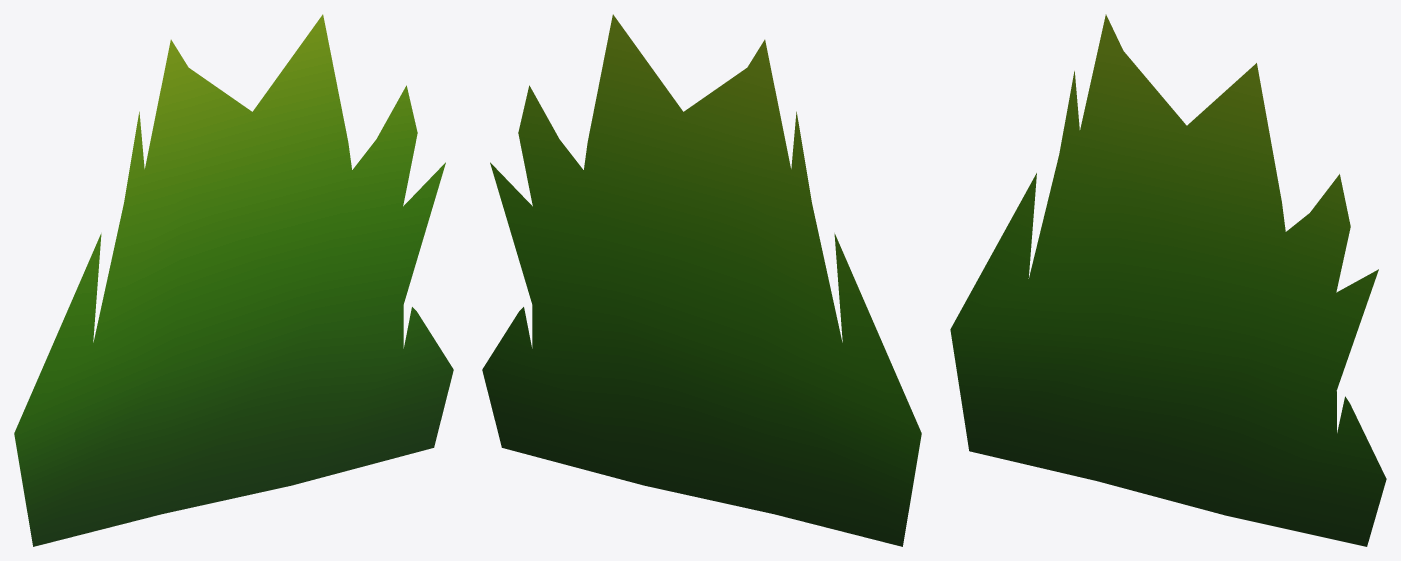
File: mato3.fbx
The picture shows the model from 3 angles, left to right: view 1: azimuth 30°, elevation 25°; view 2: azimuth 150°, elevation 25°; view 3: azimuth 330°, elevation 25°; orthographic projection.
Visible parts, largest first — view 1: Grama3; view 2: Grama3; view 3: Grama3.
Boxes of the visible parts, box(x1,y1,x2,y2) form: Grama3: box(14, 14, 453, 546); Grama3: box(482, 14, 921, 546); Grama3: box(950, 14, 1386, 546).
Size of the model in its own units: 190 by 196 by 1.05e-05.
